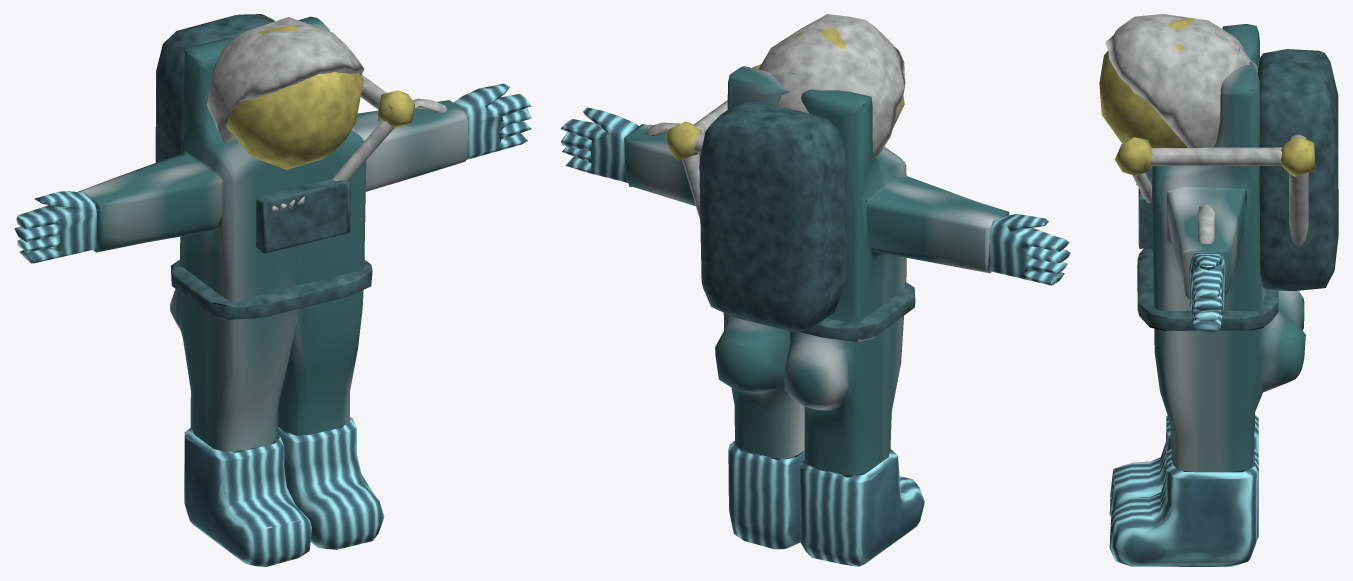
File: astronaut02.FBX
The picture shows the model from 3 angles, left to right: view 1: azimuth 30°, elevation 25°; view 2: azimuth 150°, elevation 25°; view 3: azimuth 270°, elevation 25°; orthographic projection. The views are drawn at different scales.
Visible parts, largest first — view 1: astronaut02; view 2: astronaut02; view 3: astronaut02.
Part boxes in pixels (bbox=[...]): astronaut02: bbox=[14, 14, 531, 566]; astronaut02: bbox=[561, 14, 1070, 566]; astronaut02: bbox=[1099, 14, 1338, 566].
Size of what is drawn, in the model's own units: 232 by 93.56 by 224.
